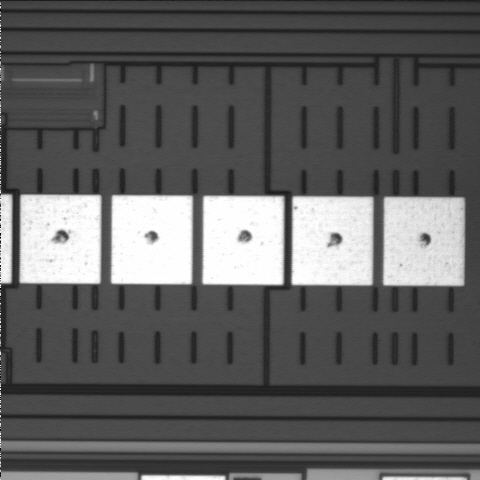pad: (111, 195, 193, 284), (202, 196, 284, 285), (20, 195, 101, 284), (292, 196, 373, 285), (383, 197, 464, 286)
